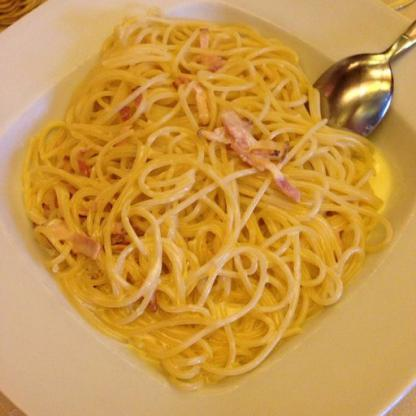Noodles: (21, 6, 394, 394)
